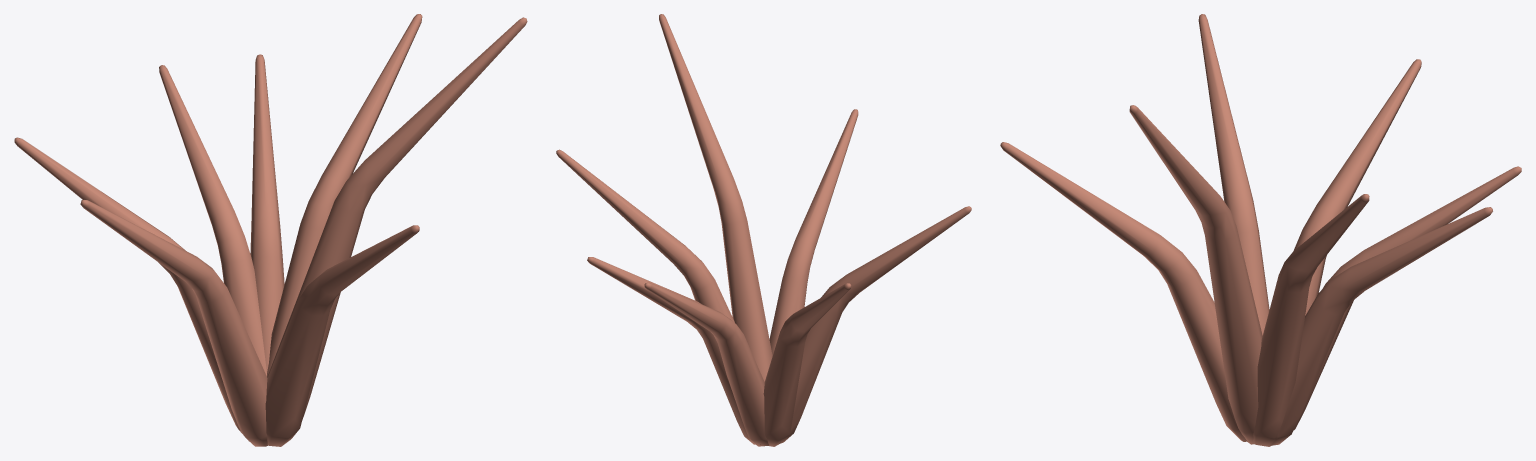
Rendered from ENV_Ember_Cinderleaf_I.fbx.
3 renders of one model, left to right at view 1: azimuth 30°, elevation 25°; view 2: azimuth 150°, elevation 25°; view 3: azimuth 270°, elevation 25°, orthographic. The views are drawn at different scales.
Visible parts, largest first — view 1: ENV_Ember_Cinderleaf_I; view 2: ENV_Ember_Cinderleaf_I; view 3: ENV_Ember_Cinderleaf_I.
Part boxes in pixels (box(x1,y1,x2,y2)): ENV_Ember_Cinderleaf_I: box(14, 14, 527, 446); ENV_Ember_Cinderleaf_I: box(556, 14, 971, 446); ENV_Ember_Cinderleaf_I: box(1000, 14, 1521, 446).
Size of the model in its own units: 0.8504 by 0.815 by 0.8947.
